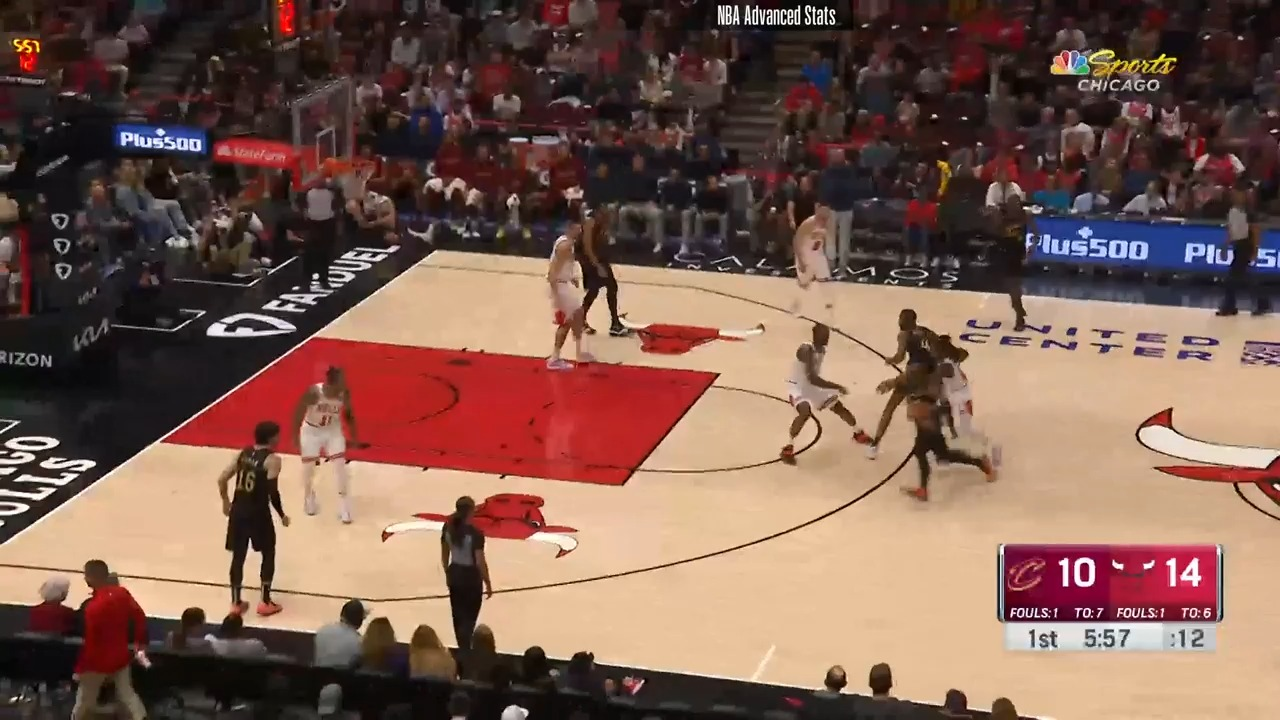net: (316, 155, 376, 191)
player: (220, 417, 302, 623), (890, 361, 996, 503), (782, 323, 871, 470), (284, 369, 363, 528), (862, 305, 938, 456), (931, 331, 1007, 477), (532, 221, 591, 377), (986, 190, 1047, 339), (575, 202, 639, 340), (781, 199, 846, 319)
referee: (428, 487, 565, 648), (1212, 193, 1270, 332), (291, 172, 342, 297)
